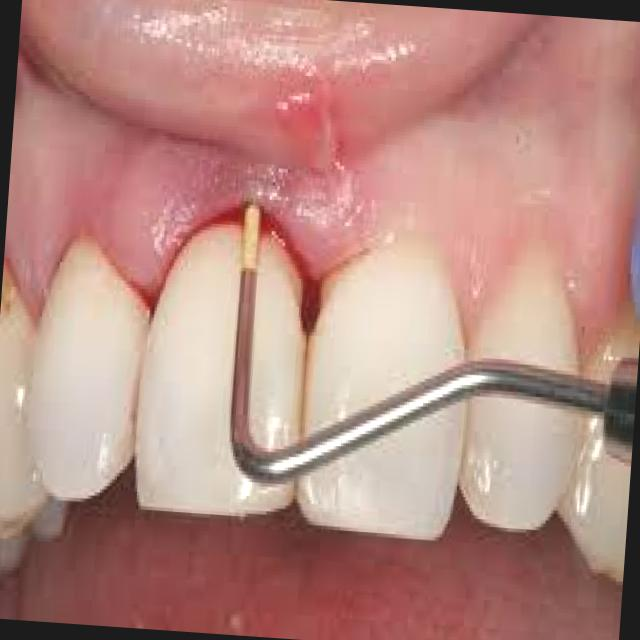abscess: (96, 134, 362, 339)
